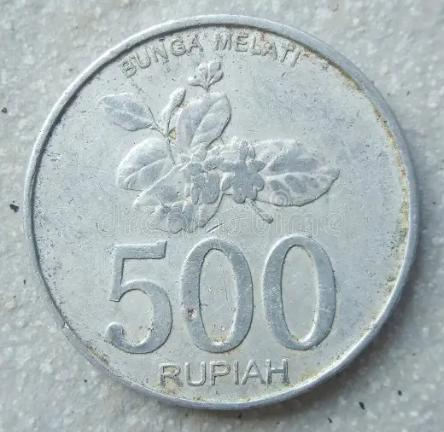coin_500_e2003: (24, 13, 423, 414)
